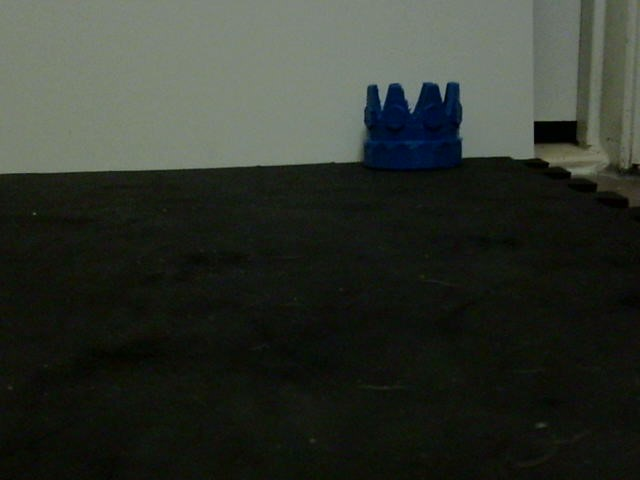crown: (363, 82, 465, 171)
